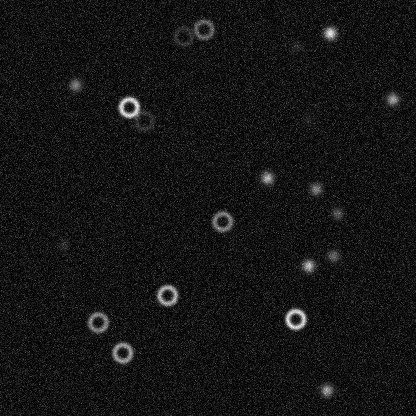Ring: (283, 306, 307, 330), (85, 310, 109, 334), (132, 108, 156, 132), (155, 283, 179, 307), (210, 209, 234, 233), (110, 340, 134, 364), (171, 24, 195, 48), (191, 17, 215, 41), (116, 95, 140, 119)
Spot: (318, 382, 334, 398), (325, 247, 341, 263), (307, 180, 323, 196), (288, 38, 304, 54), (67, 76, 83, 92), (329, 204, 345, 220), (55, 237, 71, 253), (321, 24, 337, 40), (299, 111, 315, 127), (300, 257, 316, 273), (384, 91, 400, 107), (259, 169, 275, 185)
